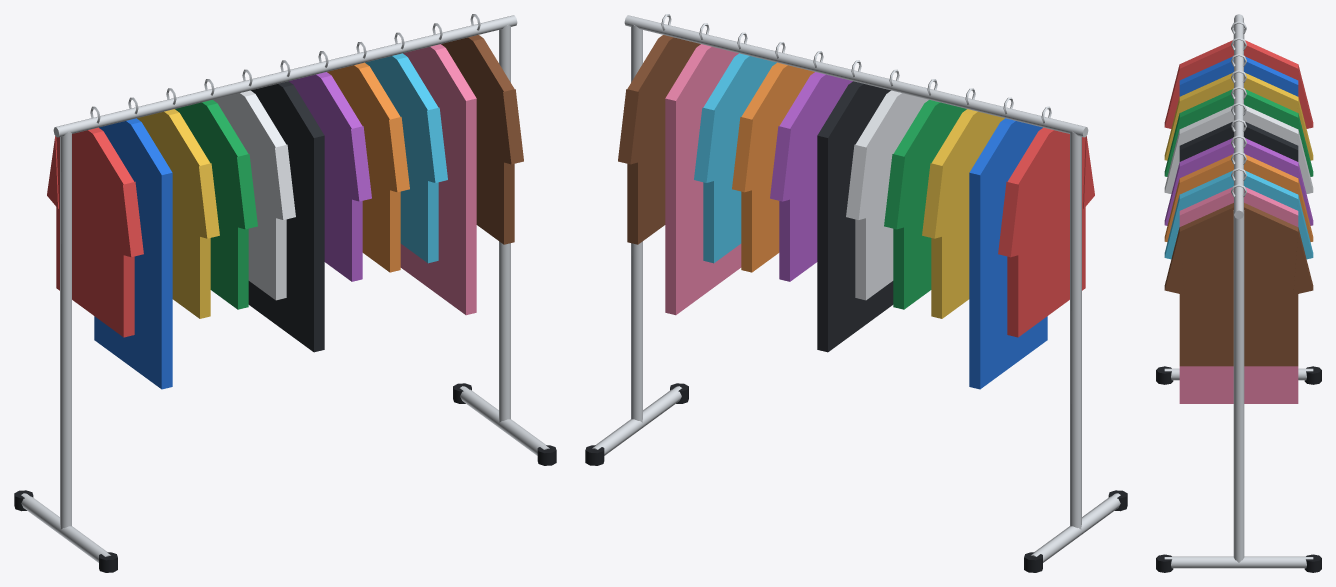
The model's file is clothing_rack.glb.
3 views of the same model, side by side, from view 1: azimuth 30°, elevation 25°; view 2: azimuth 150°, elevation 25°; view 3: azimuth 270°, elevation 25° (orthographic). The views are drawn at different scales.
Parts seen in each view (by area): view 1: clothing_rack; view 2: clothing_rack; view 3: clothing_rack.
Part boxes in pixels (x1,y1,x2,y2): clothing_rack: (14, 14, 556, 572); clothing_rack: (585, 14, 1127, 572); clothing_rack: (1156, 14, 1321, 572).
Size of the model in its own units: 1.88 by 1.66 by 0.67.
